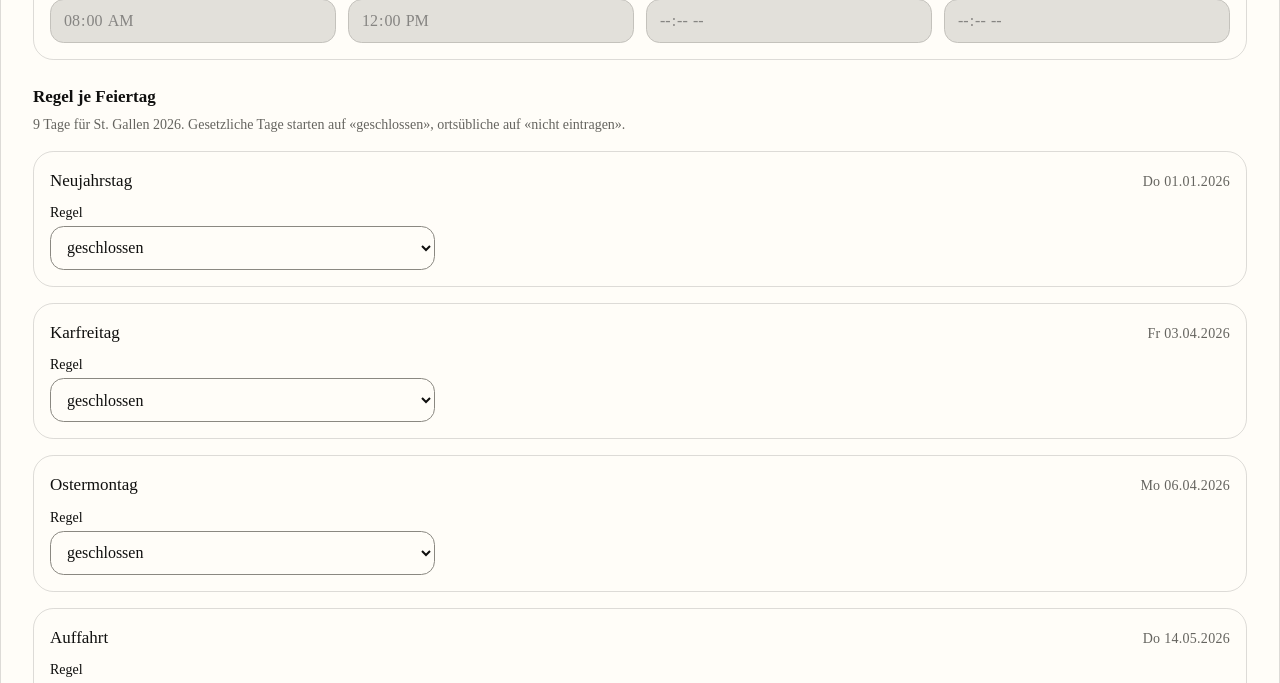
Scenario: Feiertagsplaner: Formular › zeigt Felder für Sonderzeiten erst bei der Regel «Sonderzeiten»
(page scrolled)
Select "Sonderzeiten" in the dropdown named "Regel für Karfreitag". click: {"x": 243, "y": 400}
box: [50,378,435,422]
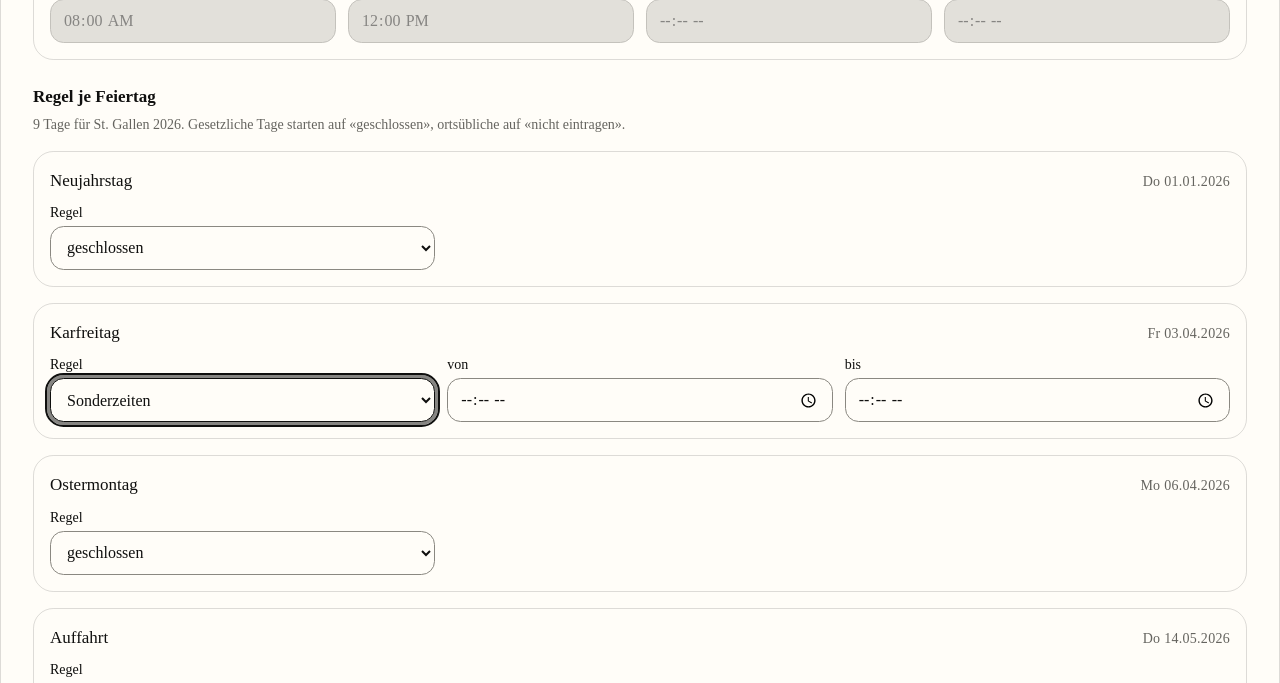
Check: the time field named "Karfreitag, Sonderzeiten von" is shown, box [447,378,833,422]
Check: the time field named "Karfreitag, Sonderzeiten bis" is shown, box [845,378,1230,422]
